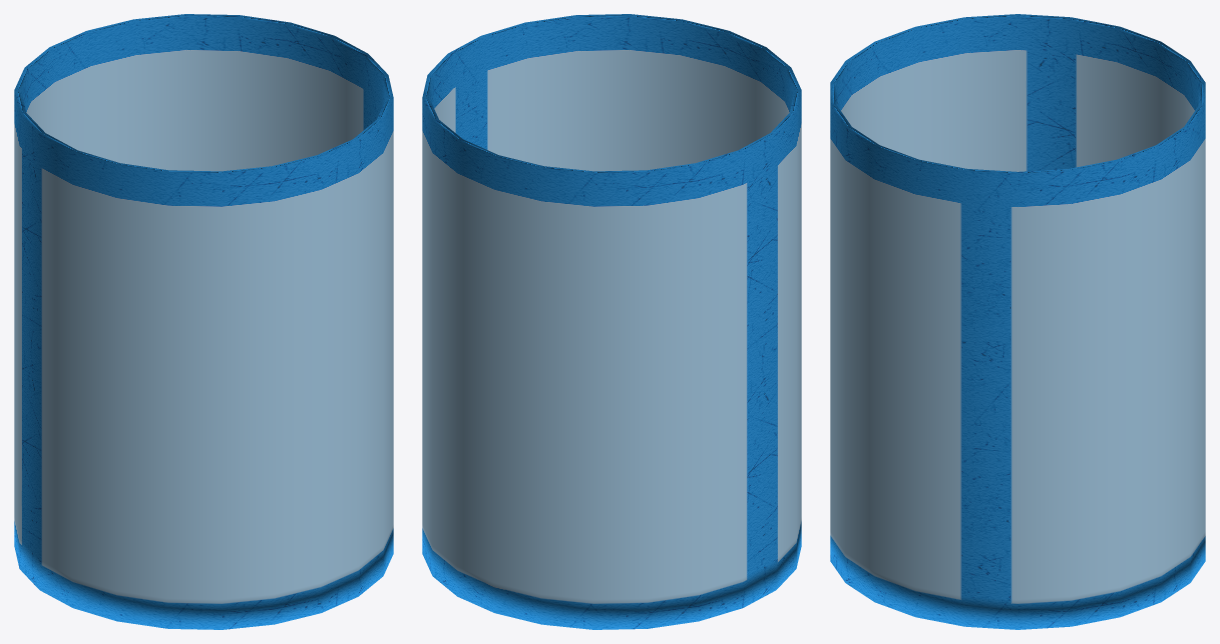
Rendered from FUT0110018.fbx.
3 views of the same model, side by side, from view 1: azimuth 30°, elevation 25°; view 2: azimuth 150°, elevation 25°; view 3: azimuth 270°, elevation 25° (orthographic).
Visible parts, largest first — view 1: smFUT0110018; view 2: smFUT0110018; view 3: smFUT0110018.
Boxes of the visible parts, x1,y1,x2,y2 form: smFUT0110018: [14, 14, 393, 629]; smFUT0110018: [422, 14, 801, 629]; smFUT0110018: [830, 14, 1205, 629].
Bounding box in the file's own units: 215 × 284 × 212.
1 material, 1 textured.
